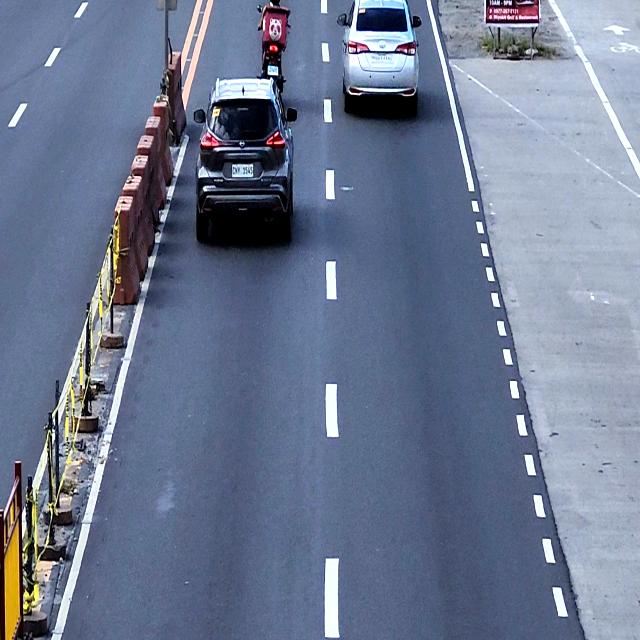Car: (194, 75, 298, 241), (336, 0, 422, 113)
License-Plate: (230, 161, 254, 178), (371, 54, 394, 64), (267, 64, 279, 76)
Motorcycle: (256, 2, 291, 90)
